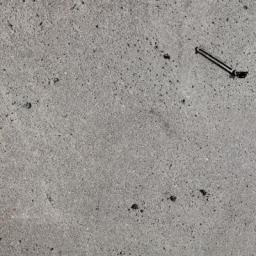FOD: (193, 43, 252, 81)
